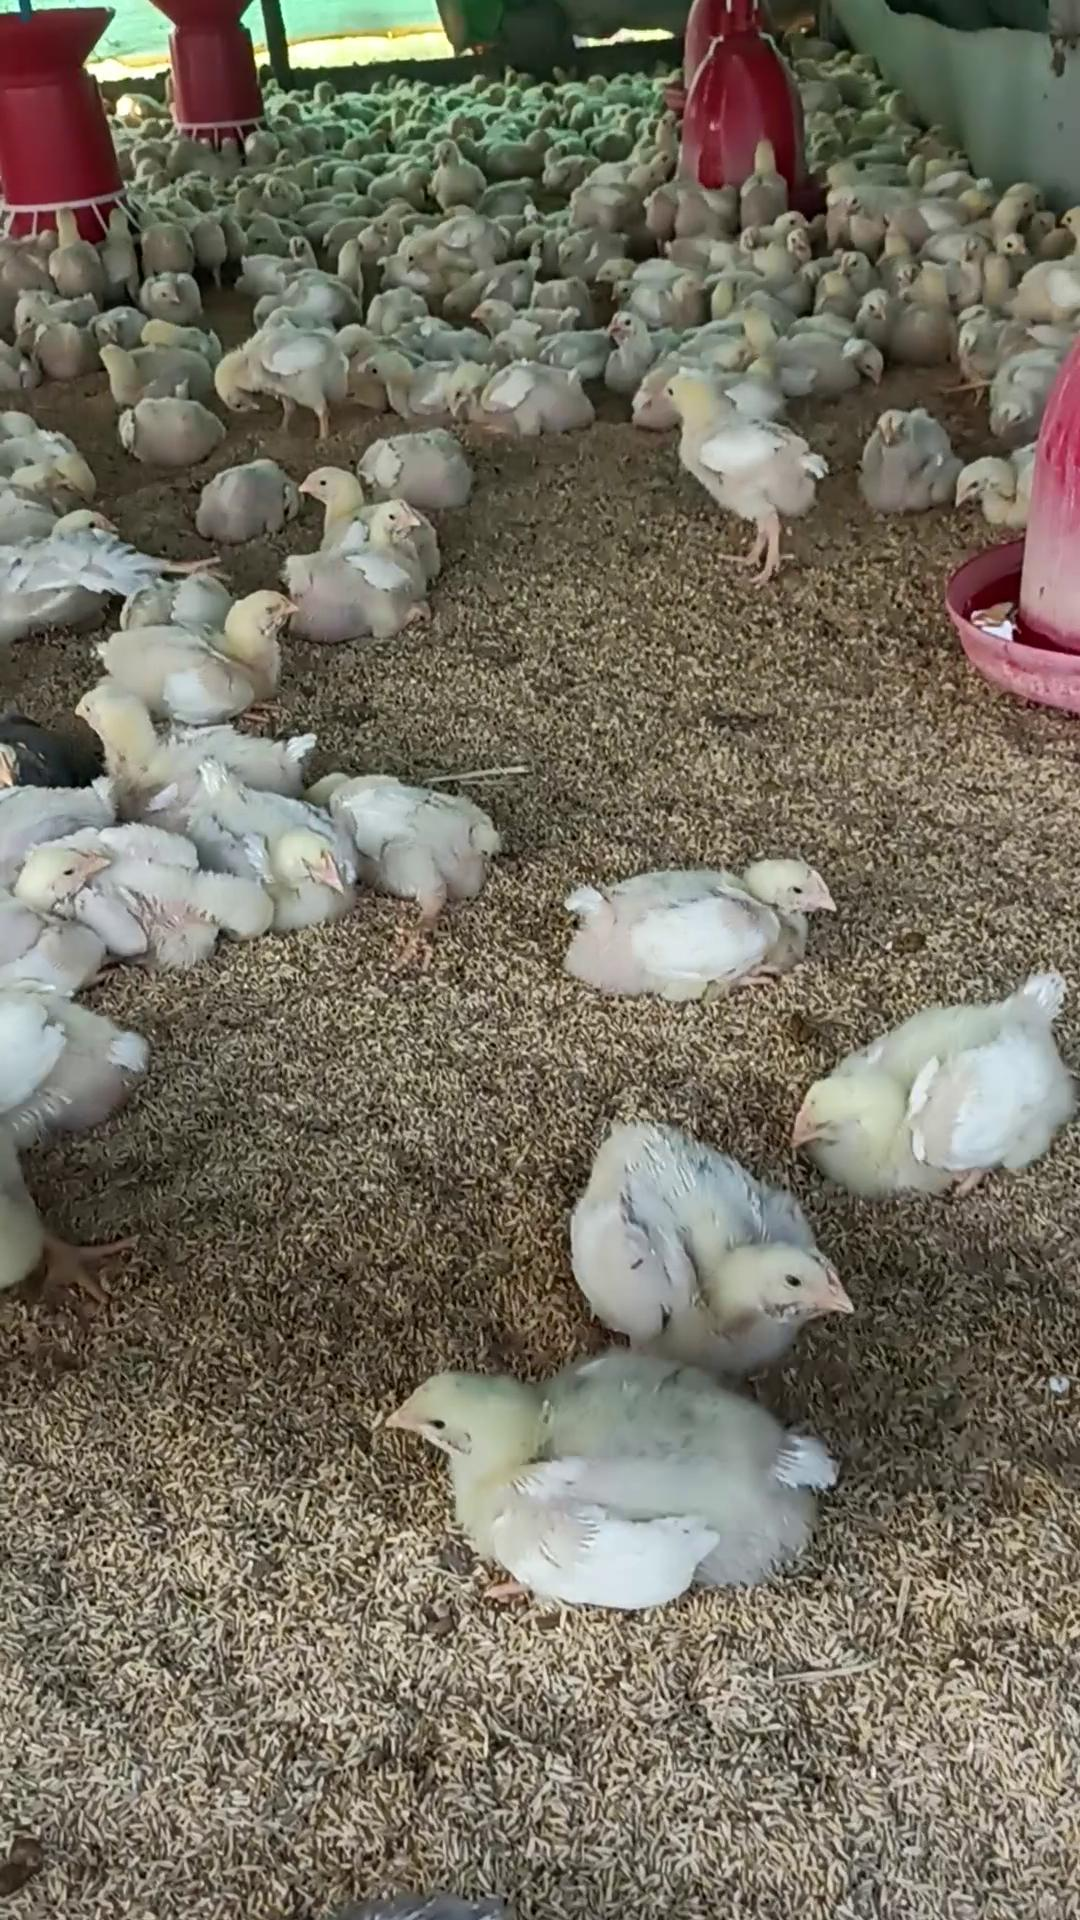Pollos: (382, 1358, 837, 1594), (574, 1104, 847, 1352), (803, 973, 1075, 1192), (560, 851, 840, 1004), (90, 584, 316, 723), (166, 765, 367, 919), (655, 371, 822, 533), (328, 765, 498, 897), (287, 498, 435, 637), (206, 326, 367, 430), (0, 847, 112, 982), (0, 505, 115, 637), (451, 355, 608, 442), (856, 398, 963, 518), (853, 285, 978, 359), (94, 338, 208, 409), (949, 438, 1040, 527), (781, 336, 895, 400), (121, 402, 218, 463), (16, 297, 91, 360), (140, 273, 211, 324), (609, 311, 665, 369)
